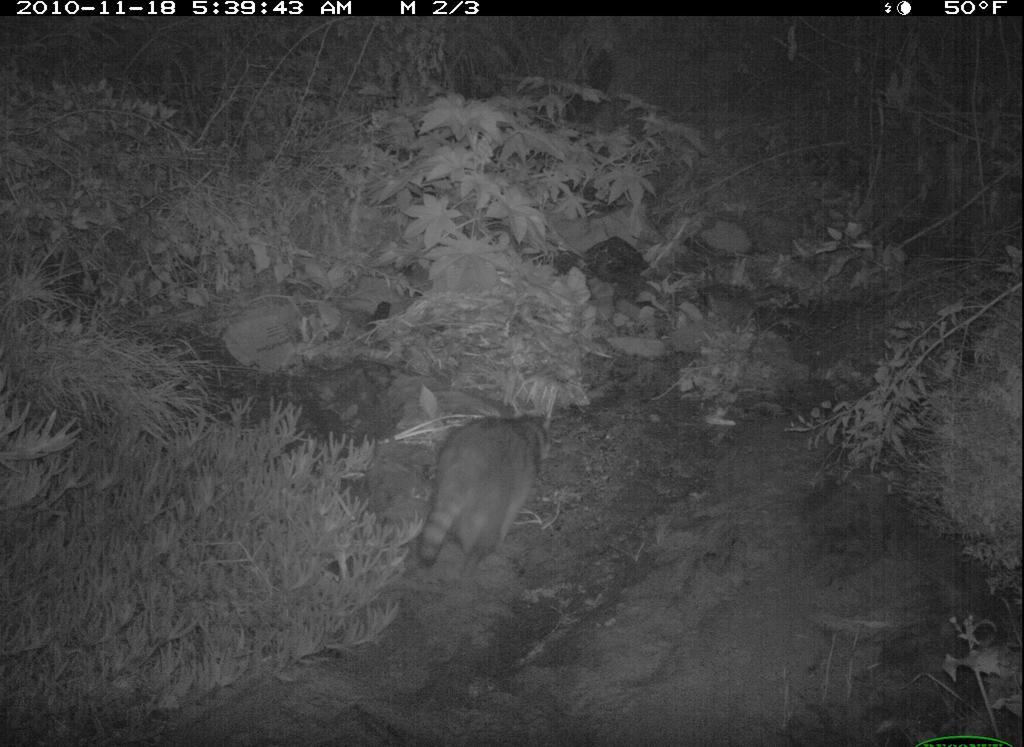raccoon: (417, 392, 561, 577)
